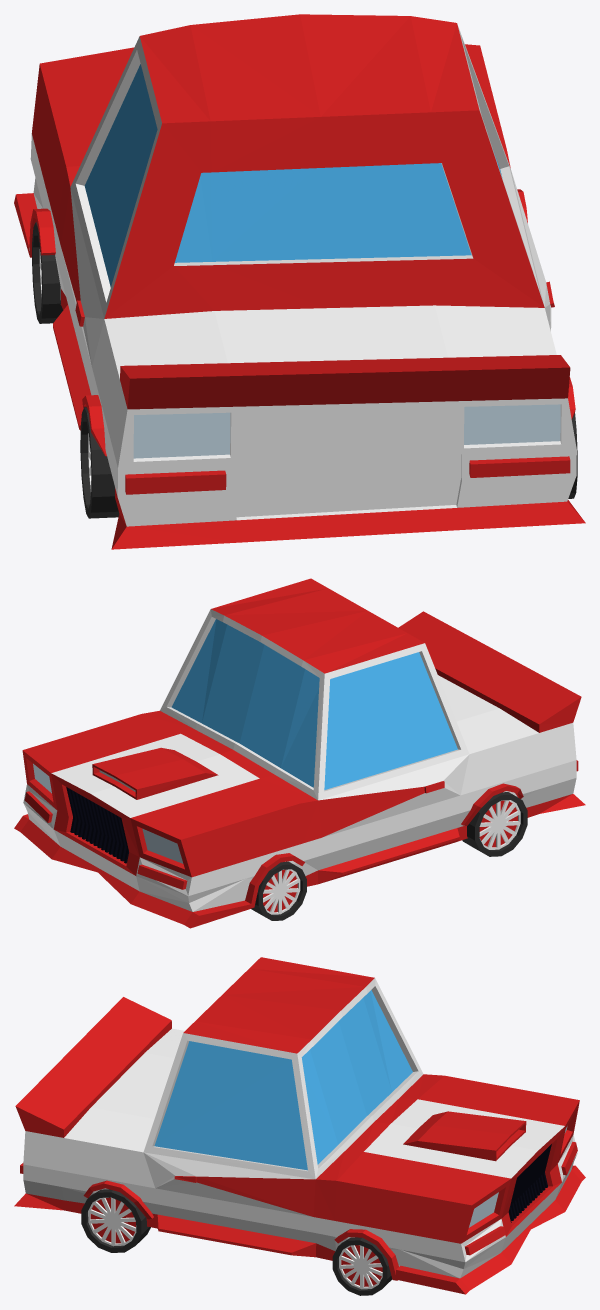
Rendered from Low-Poly-Racing-Car.obj.
The picture shows the model from 3 angles, top to bottom: view 1: azimuth 30°, elevation 25°; view 2: azimuth 150°, elevation 25°; view 3: azimuth 270°, elevation 25°; orthographic projection. The views are drawn at different scales.
Parts seen in each view (by area): view 1: body, backlight, wheel.1, wheel1.1, front_fender, rear_fender; view 2: body, wheel.1, lattice.1, wheel1.1, headlight, front_fender, rear_fender; view 3: body, wheel.1, wheel1.1, lattice.1, front_fender, rear_fender, headlight.
Boxes of the visible parts, box(x1,y1,x2,y2) form: body: box(14, 14, 585, 549); backlight: box(133, 404, 560, 458); wheel.1: box(80, 407, 577, 518); wheel1.1: box(32, 222, 63, 323); front_fender: box(29, 189, 527, 257); rear_fender: box(82, 377, 575, 456); body: box(14, 578, 585, 928); wheel.1: box(462, 792, 527, 856); lattice.1: box(66, 787, 128, 863); wheel1.1: box(251, 861, 306, 920); headlight: box(33, 763, 183, 863); front_fender: box(245, 853, 304, 908); rear_fender: box(461, 783, 523, 825); body: box(14, 957, 585, 1294); wheel.1: box(81, 1189, 150, 1252); wheel1.1: box(332, 1237, 392, 1295); lattice.1: box(508, 1144, 551, 1222); front_fender: box(334, 1229, 398, 1280); rear_fender: box(83, 1180, 153, 1219); headlight: box(469, 1126, 567, 1227).
Size of the model in its own units: 2.16 by 1.11 by 2.64.
